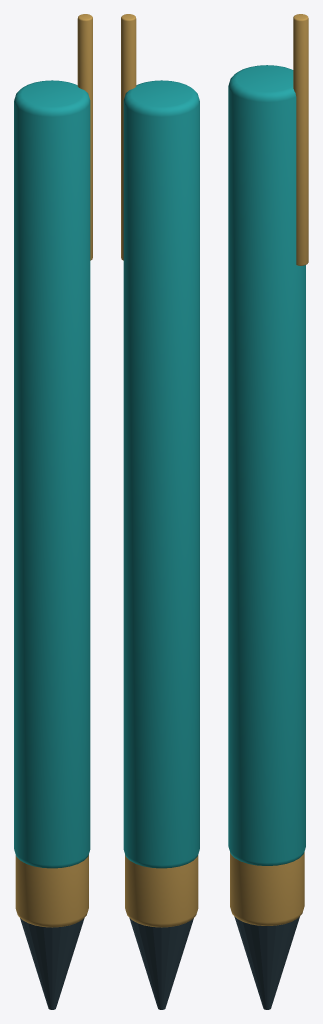
File: AnnotationPen.fbx
3 views of the same model, side by side, from view 1: azimuth 30°, elevation 25°; view 2: azimuth 150°, elevation 25°; view 3: azimuth 330°, elevation 25° (orthographic).
Parts seen in each view (by area): view 1: Pen barrel, Metal grip, Nib, Pocket clip; view 2: Pen barrel, Metal grip, Nib, Pocket clip; view 3: Pen barrel, Metal grip, Pocket clip, Nib.
Boxes of the visible parts, x1=… form: Pen barrel: x1=14, y1=80, x2=90, y2=868; Metal grip: x1=15, y1=855, x2=88, y2=927; Nib: x1=20, y1=918, x2=84, y2=1009; Pocket clip: x1=77, y1=14, x2=92, y2=260; Pen barrel: x1=123, y1=80, x2=199, y2=868; Metal grip: x1=125, y1=855, x2=198, y2=927; Nib: x1=129, y1=918, x2=193, y2=1009; Pocket clip: x1=121, y1=14, x2=136, y2=260; Pen barrel: x1=228, y1=65, x2=305, y2=865; Metal grip: x1=230, y1=852, x2=304, y2=925; Pocket clip: x1=293, y1=14, x2=308, y2=265; Nib: x1=234, y1=916, x2=299, y2=1009.
Bounding box in the file's own units: 0.011 × 0.142 × 0.01.
